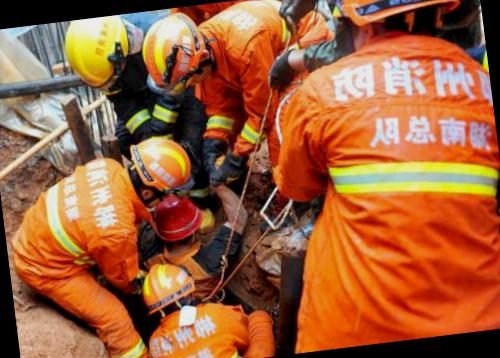person: (246, 0, 500, 350), (4, 139, 214, 358), (138, 0, 309, 175), (60, 9, 190, 152), (128, 254, 276, 358), (127, 190, 246, 278)
